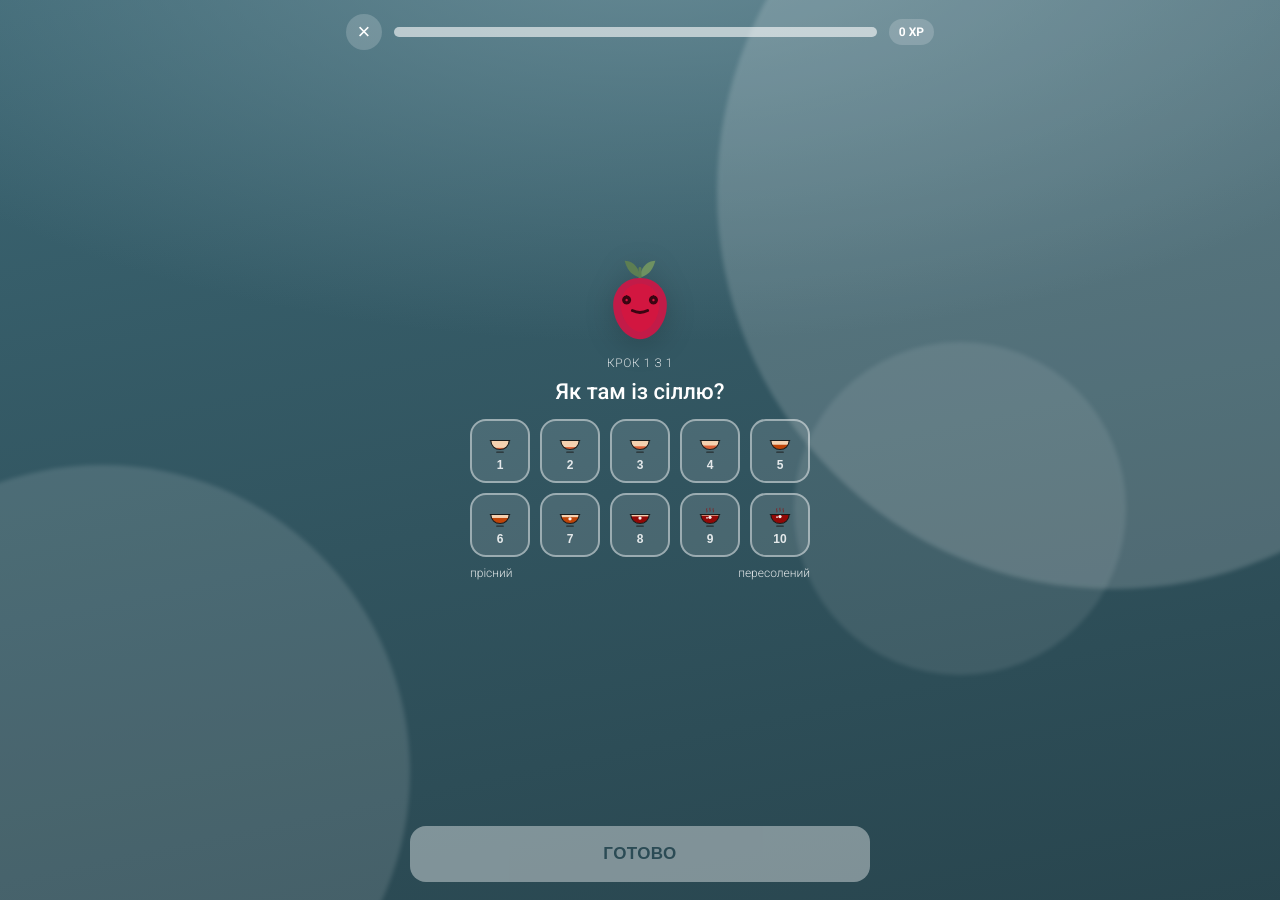
Test: the ten-point arm offers ten taps and both anchors
Expected: the text "прісний" is shown, x1=470 y1=565 x2=512 y2=581
Expected: the text "пересолений" is shown, x1=738 y1=565 x2=810 y2=581
Click the button "6" at (500, 525), box x1=470 y1=493 x2=530 y2=557
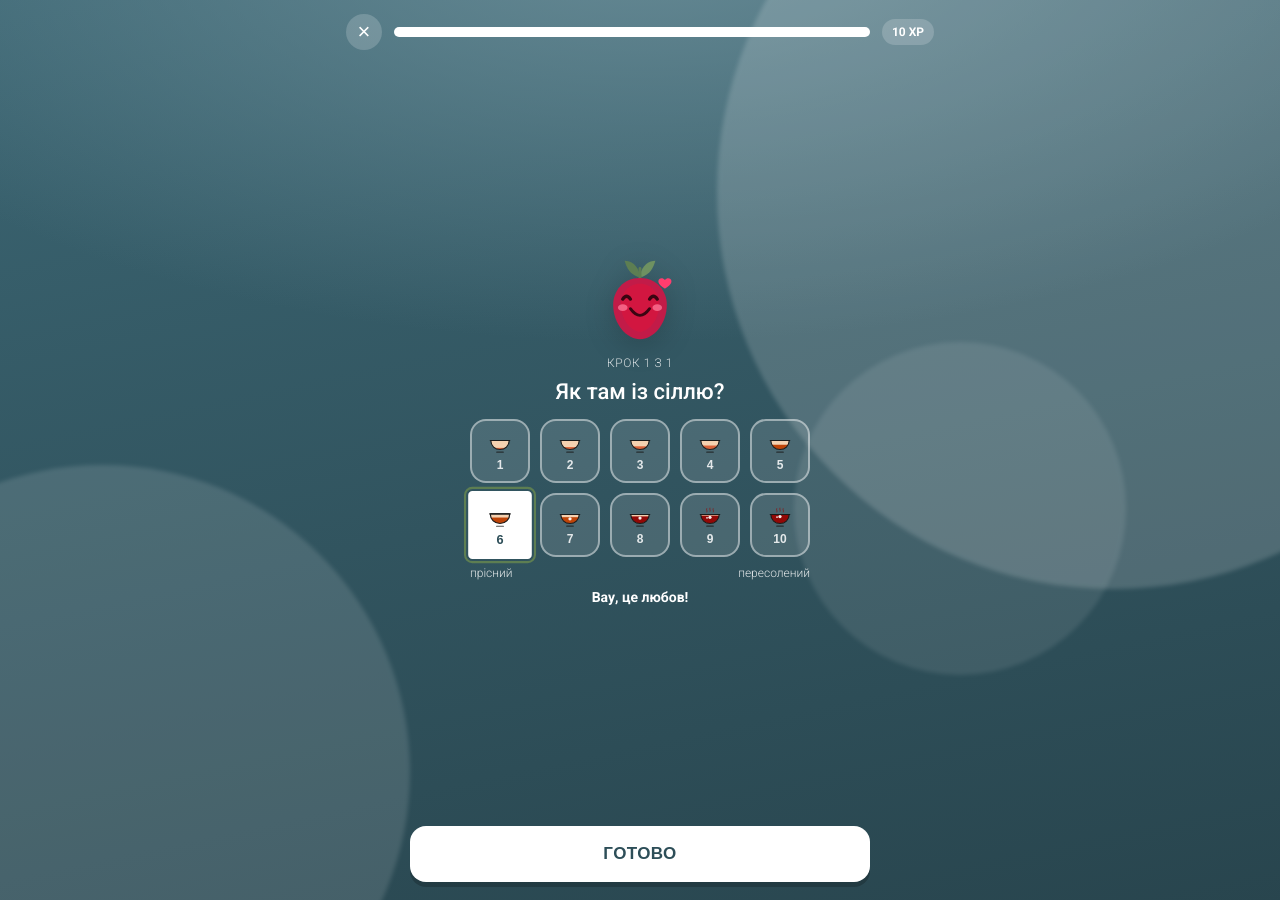
Expected: the button "Готово" is enabled, x1=410 y1=826 x2=870 y2=882
Expected: the text "Вау, це любов!" is shown, x1=592 y1=589 x2=688 y2=611
Click the button "10" at (780, 525), box x1=750 y1=493 x2=810 y2=557
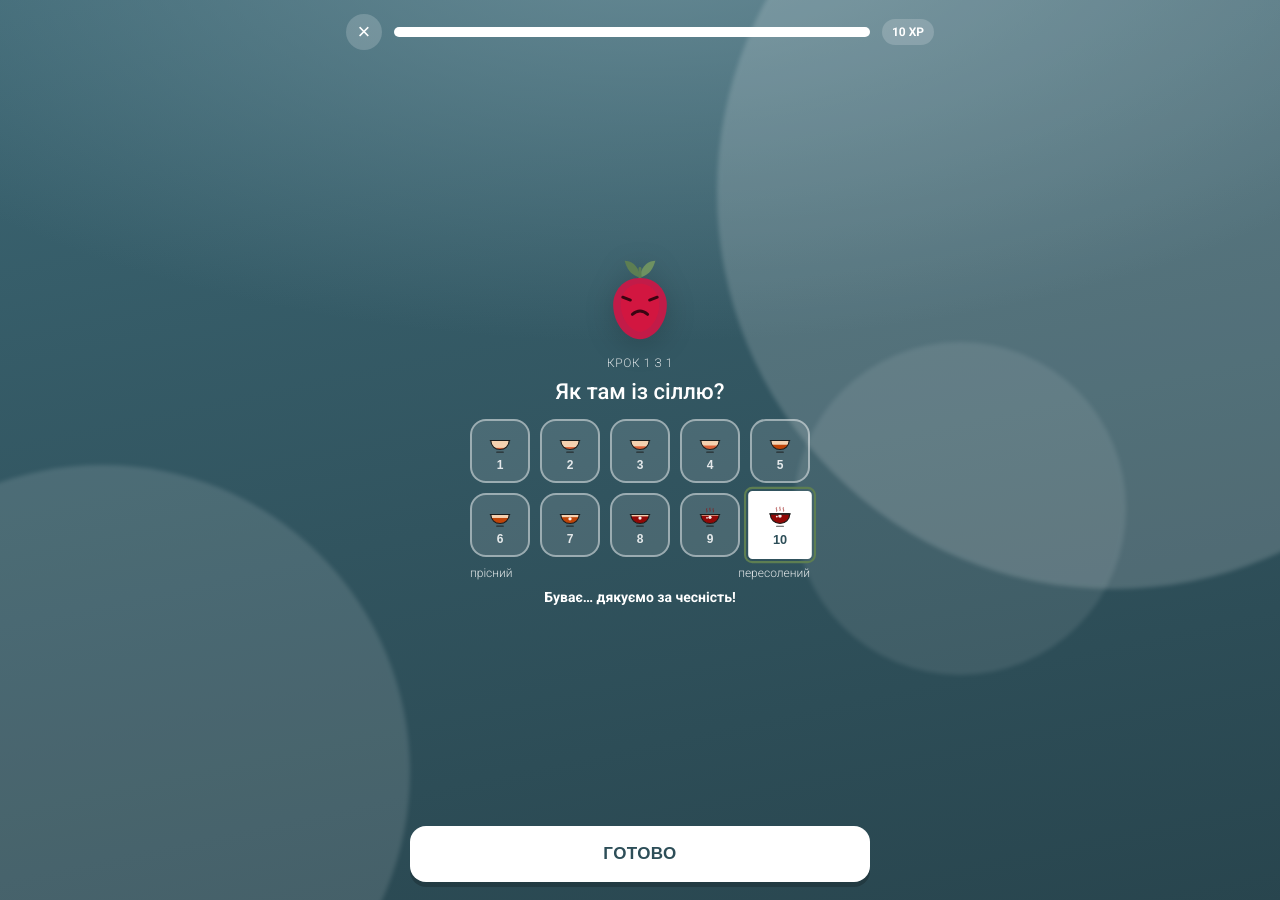
Expected: the text "Буває… дякуємо за чесність!" is shown, x1=544 y1=589 x2=736 y2=611
